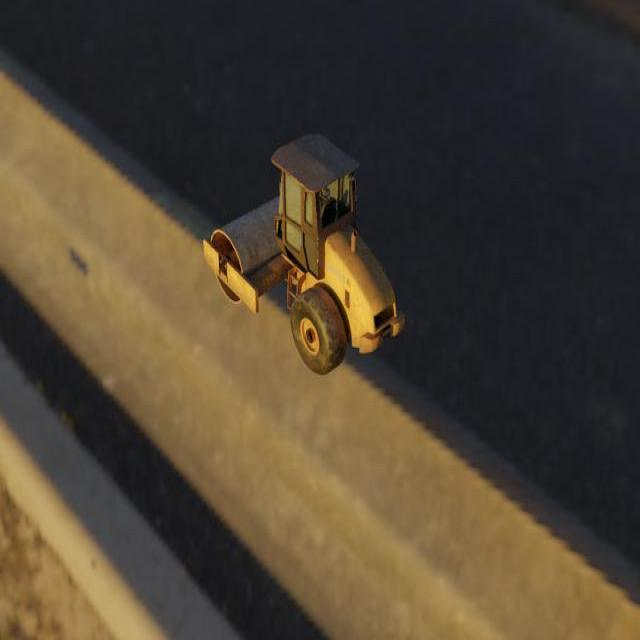Roller: (203, 132, 405, 376)
